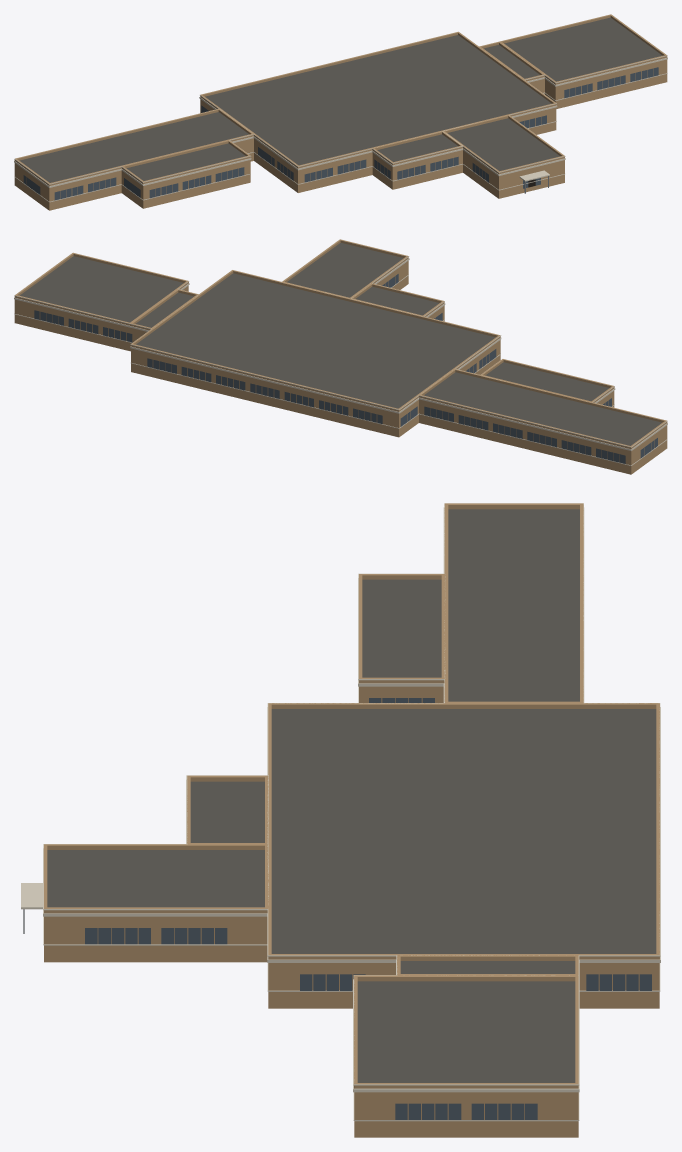
The model's file is watson-elementary.glb.
3 renders of one model, top to bottom at view 1: azimuth 30°, elevation 25°; view 2: azimuth 150°, elevation 25°; view 3: azimuth 270°, elevation 25°, orthographic. The views are drawn at different scales.
Visible parts, largest first — view 1: watson_elementary; view 2: watson_elementary; view 3: watson_elementary.
Boxes of the visible parts, x1=… form: watson_elementary: x1=14, y1=14, x2=667, y2=210; watson_elementary: x1=14, y1=239, x2=667, y2=474; watson_elementary: x1=21, y1=503, x2=660, y2=1137.
Bounding box in the file's own units: 144 × 6.18 × 67.02.
